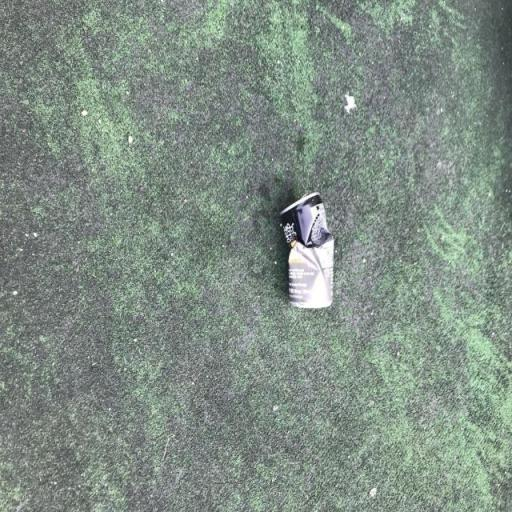metal: (268, 181, 351, 334)
